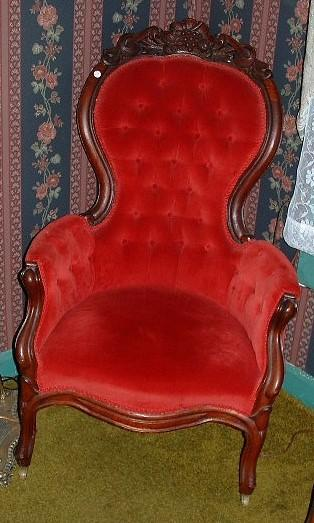chair: (13, 18, 302, 506)
